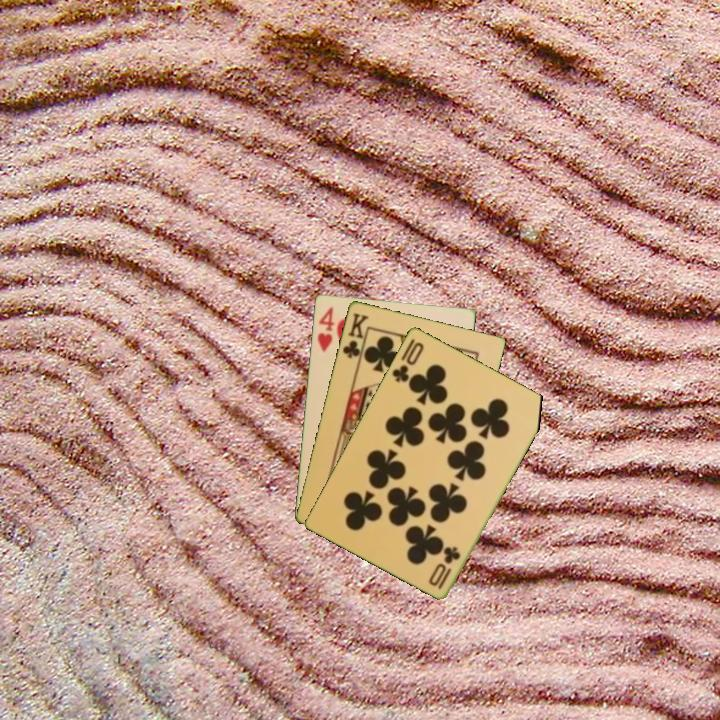10c: (388, 338, 427, 385), (434, 542, 463, 592)
4h: (313, 303, 337, 354)
Kc: (339, 309, 371, 365)
